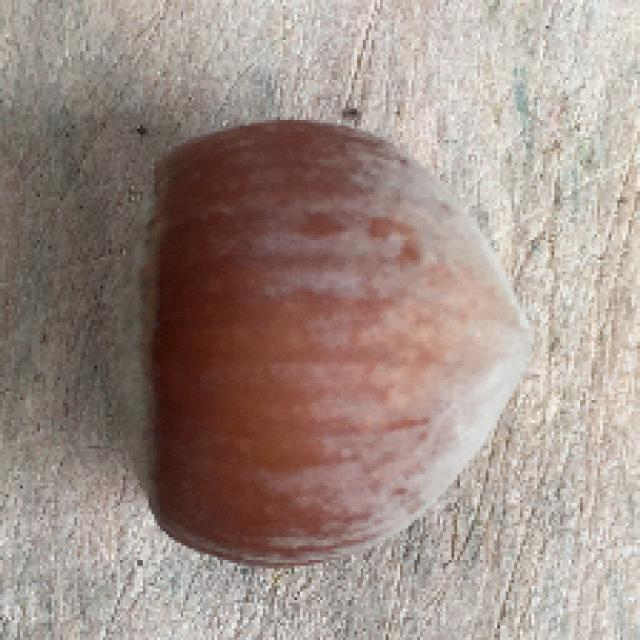qualityHazelnut: (81, 115, 535, 564)
